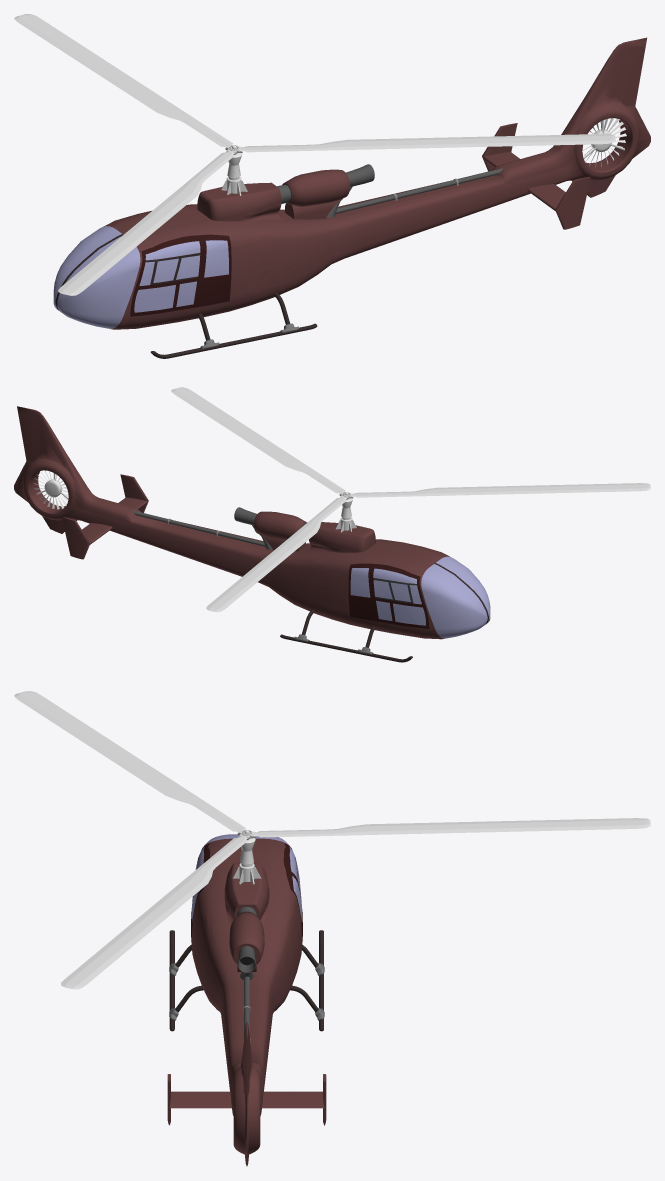
Rendered from Helicopter.fbx.
The picture shows the model from 3 angles, top to bottom: view 1: azimuth 30°, elevation 25°; view 2: azimuth 150°, elevation 25°; view 3: azimuth 270°, elevation 25°; orthographic projection. The views are drawn at different scales.
Visible parts, largest first — view 1: Component#6_001, Component#5_003, Component#5_001, Component#5_002, Component#42_002; view 2: Component#6_001, Component#5_001, Component#5_003, Component#5_002, Component#42_001; view 3: Component#6_001, Component#5_002, Component#5_003, Component#5_001, Component#42_002, Component#42_001.
Boxes of the visible parts, left/top/right/bottom form: Component#6_001: left=53, top=37, right=650, bottom=329; Component#5_003: left=237, top=134, right=615, bottom=152; Component#5_001: left=58, top=149, right=236, bottom=295; Component#5_002: left=14, top=14, right=232, bottom=149; Component#42_002: left=150, top=292, right=317, bottom=358; Component#6_001: left=14, top=406, right=490, bottom=639; Component#5_001: left=349, top=483, right=650, bottom=497; Component#5_003: left=171, top=387, right=345, bottom=495; Component#5_002: left=206, top=495, right=348, bottom=612; Component#42_001: left=280, top=609, right=412, bottom=662; Component#6_001: left=167, top=834, right=326, bottom=1166; Component#5_002: left=250, top=818, right=650, bottom=837; Component#5_003: left=61, top=834, right=249, bottom=989; Component#5_001: left=14, top=691, right=245, bottom=834; Component#42_002: left=169, top=930, right=203, bottom=1031; Component#42_001: left=290, top=930, right=324, bottom=1031.
Size of the model in its own units: 745 by 180 by 559.
